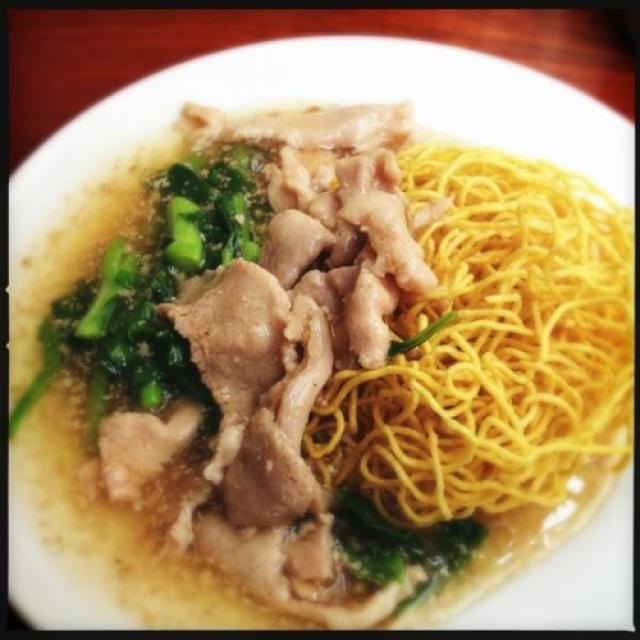面条主食: (9, 23, 635, 616)
